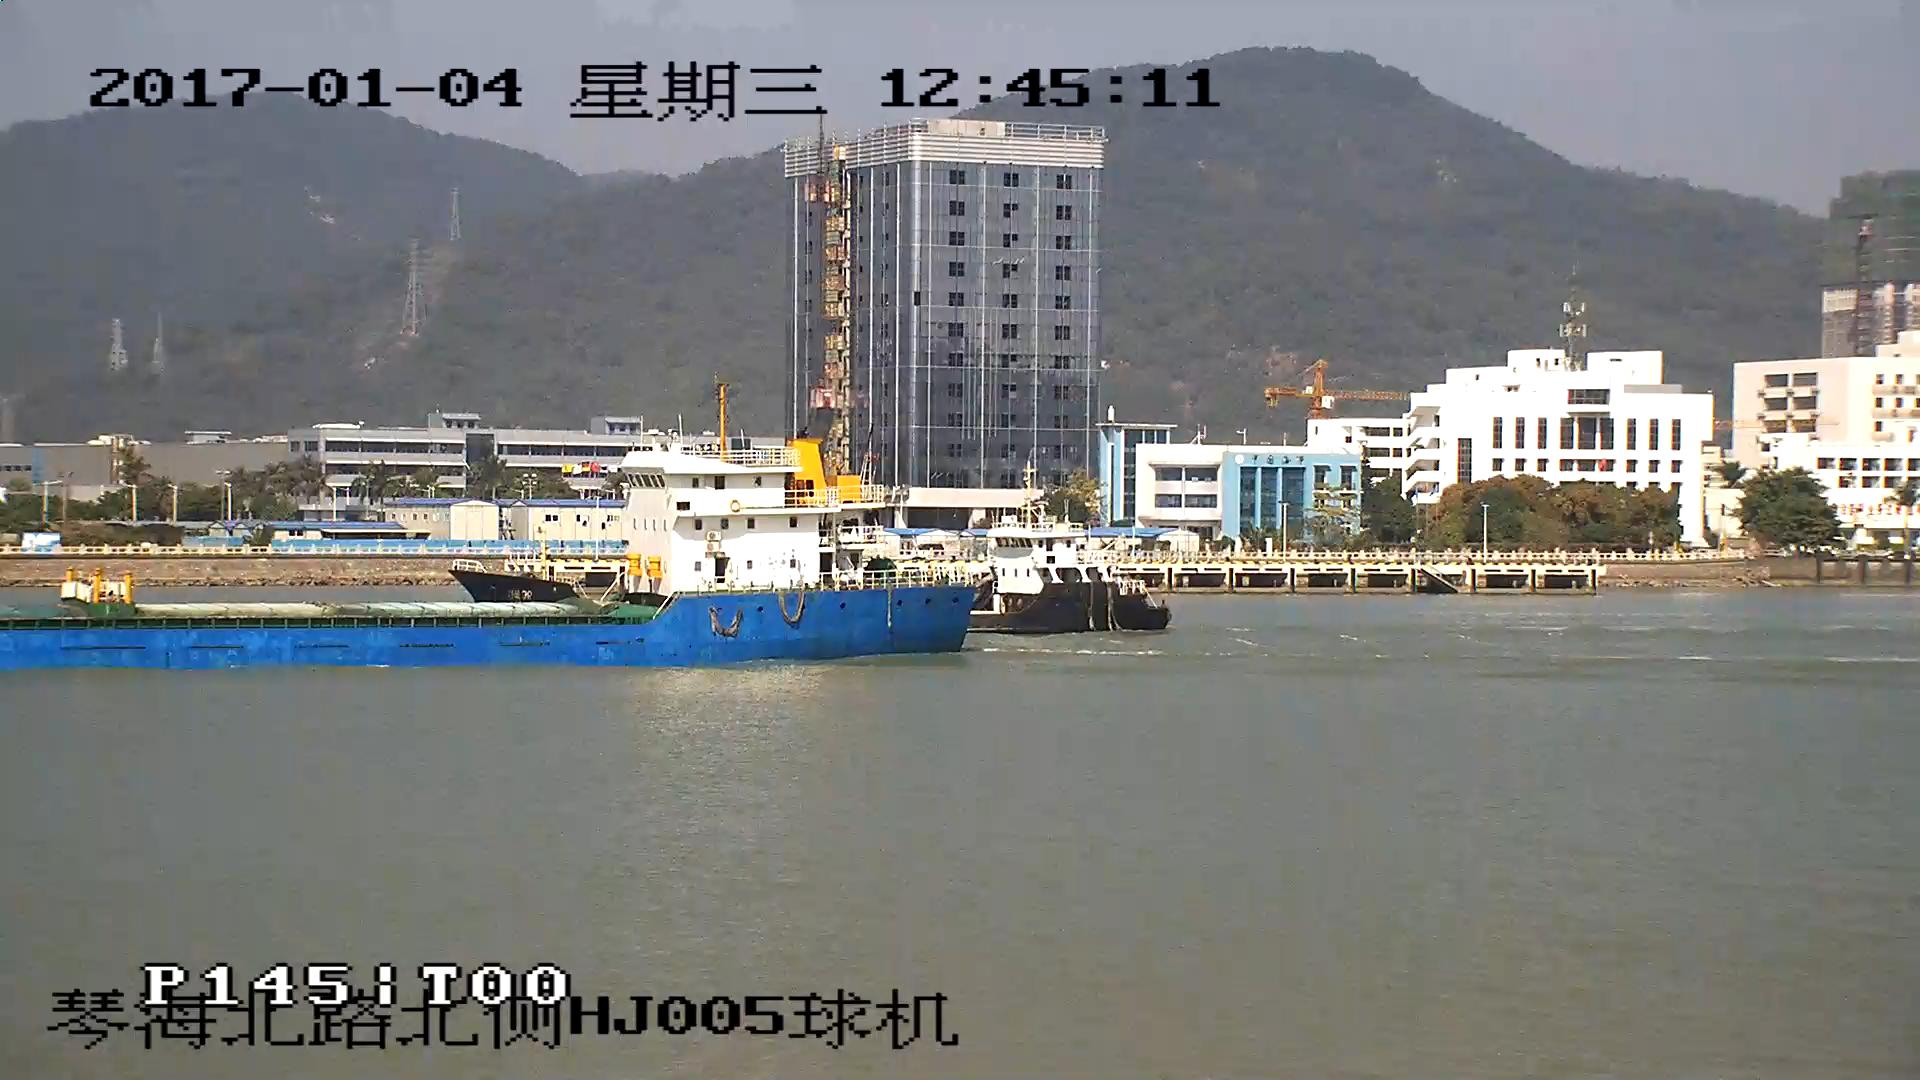general cargo ship: (1, 440, 981, 665)
